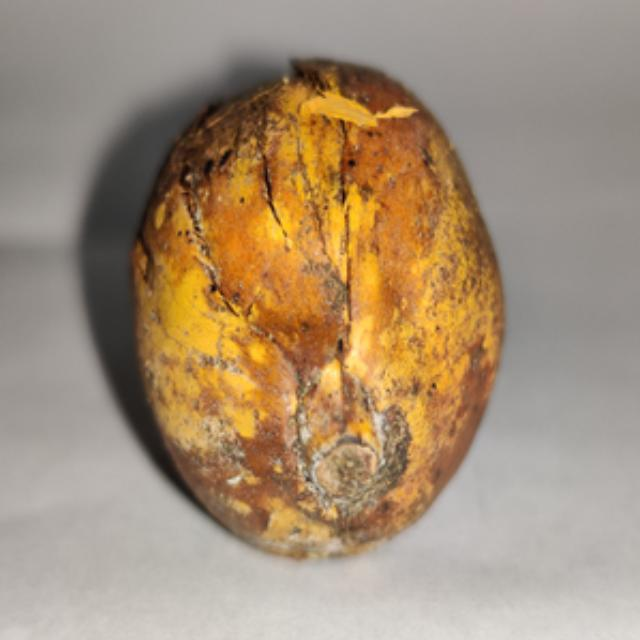damaged: (126, 58, 507, 563)
